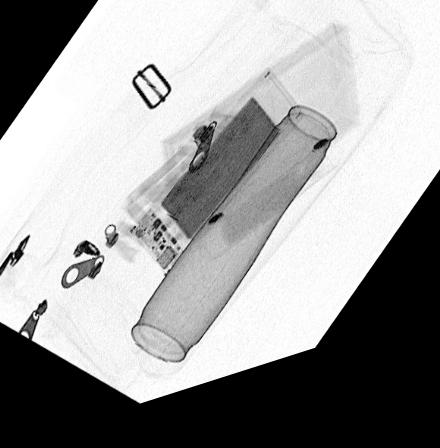Powerbank: (125, 83, 305, 291)
